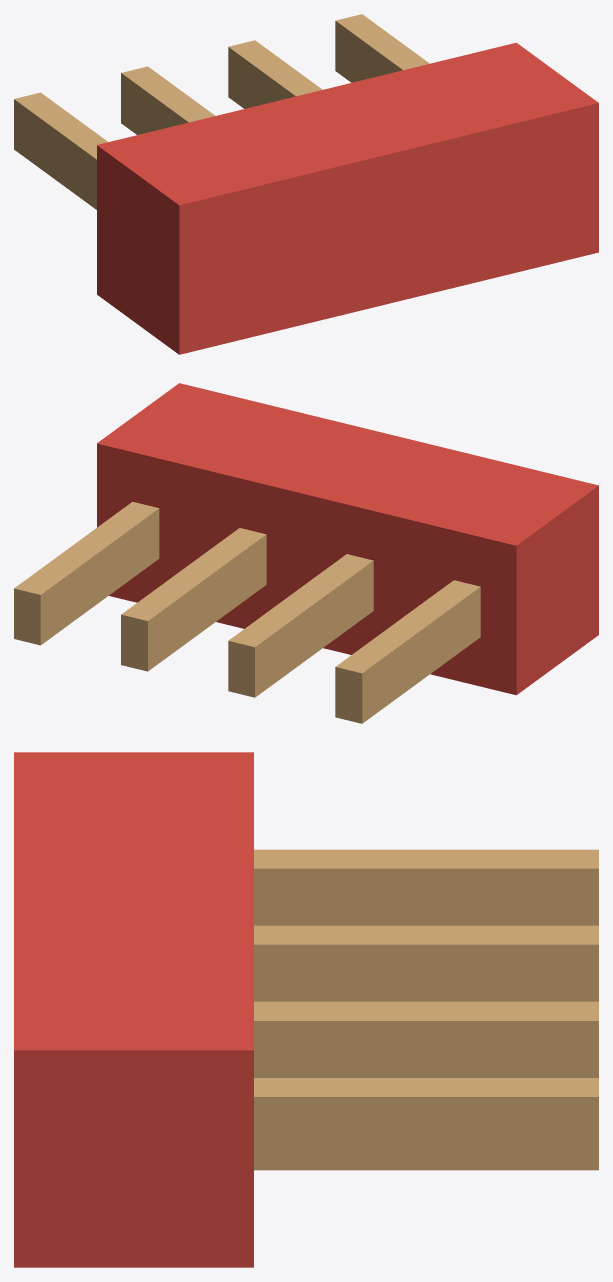
Rendered from term-jumper.glb.
3 renders of one model, top to bottom at view 1: azimuth 30°, elevation 25°; view 2: azimuth 150°, elevation 25°; view 3: azimuth 270°, elevation 25°, orthographic. The views are drawn at different scales.
Parts seen in each view (by area): view 1: body, p-1, p-4, p-3, p-2; view 2: body, p-4, p-2, p-1, p-3; view 3: body, p-4, p-1, p-2, p-3.
Part boxes in pixels (x1=…): body: x1=97, y1=42, x2=598, y2=354; p-1: x1=14, y1=92, x2=108, y2=209; p-4: x1=335, y1=14, x2=429, y2=82; p-3: x1=228, y1=40, x2=322, y2=108; p-2: x1=121, y1=66, x2=215, y2=134; body: x1=97, y1=383, x2=598, y2=695; p-4: x1=14, y1=501, x2=159, y2=645; p-2: x1=228, y1=554, x2=373, y2=697; p-1: x1=335, y1=580, x2=480, y2=723; p-3: x1=121, y1=528, x2=266, y2=671; body: x1=14, y1=752, x2=253, y2=1267; p-4: x1=254, y1=1078, x2=598, y2=1170; p-1: x1=254, y1=849, x2=598, y2=925; p-2: x1=254, y1=925, x2=598, y2=1001; p-3: x1=254, y1=1001, x2=598, y2=1077.
Size of what is drawn, in the model's own units: 0.0235 by 0.008 by 0.0195.
